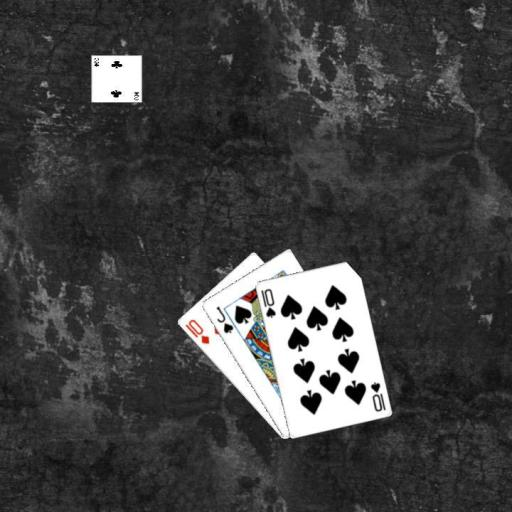10D: (182, 316, 211, 346)
10S: (367, 378, 387, 413), (258, 285, 277, 319)
JS: (213, 303, 235, 335)
